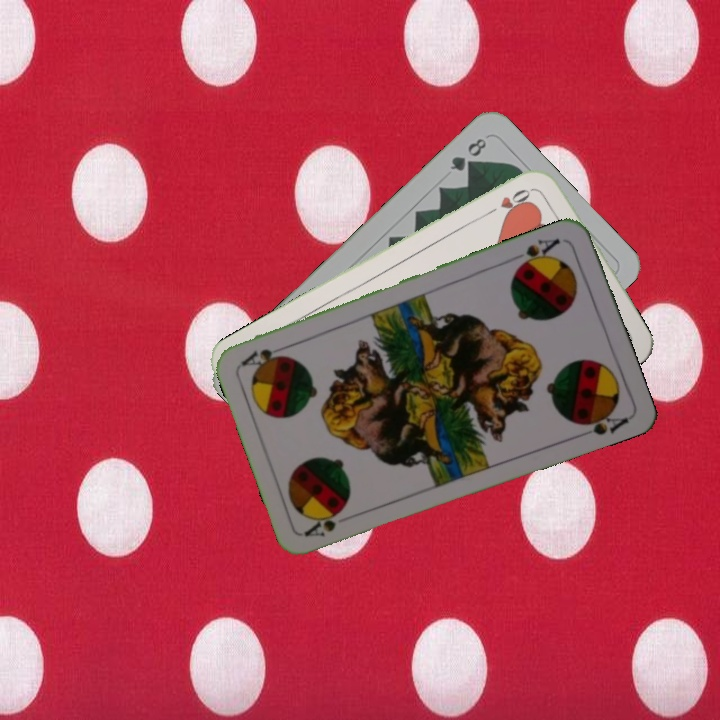G8: (446, 133, 489, 174)
HO: (483, 183, 539, 218)
SA: (509, 234, 563, 272), (300, 504, 349, 540)
